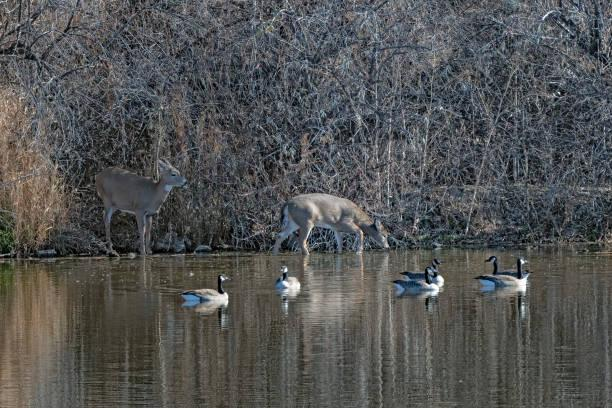Canadian-Goose: (178, 270, 236, 316), (385, 267, 448, 297), (272, 258, 305, 304), (495, 262, 540, 293), (467, 248, 510, 278), (391, 257, 447, 278)
